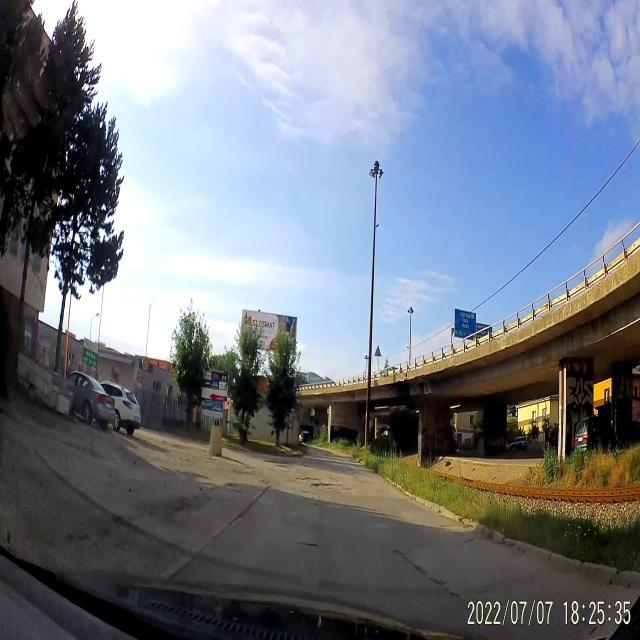Pothole: (392, 544, 458, 598), (309, 480, 349, 493), (293, 540, 326, 552), (296, 474, 318, 484)
